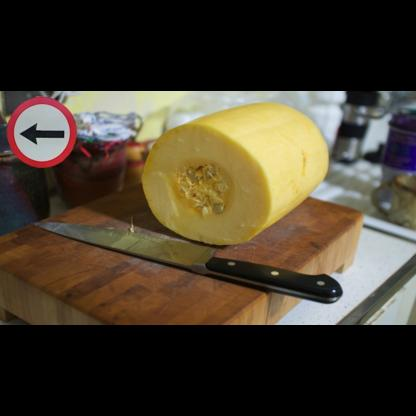R-24a: (7, 96, 77, 167)
